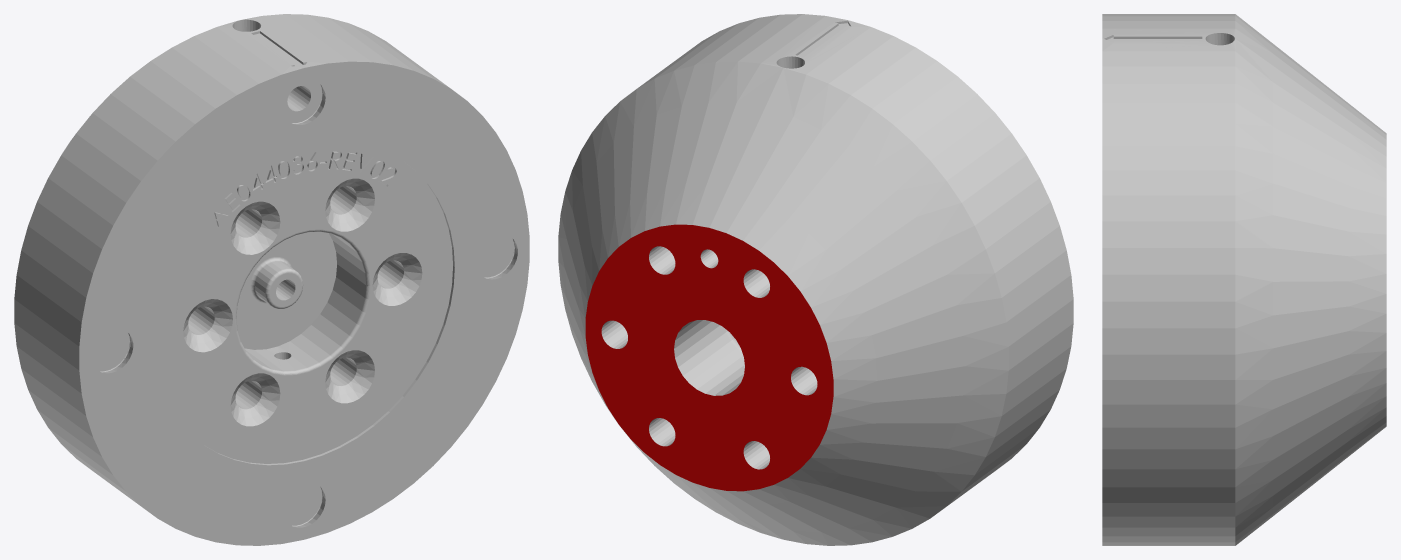
File: AE044036_STEP_53.obj
3 renders of one model, left to right at view 1: azimuth 30°, elevation 25°; view 2: azimuth 150°, elevation 25°; view 3: azimuth 270°, elevation 25°, orthographic. The views are drawn at different scales.
Parts seen in each view (by area): view 1: Object1; view 2: Object1; view 3: Object1.
Boxes of the visible parts, x1,y1,x2,y2 form: Object1: [14, 14, 529, 545]; Object1: [558, 14, 1073, 545]; Object1: [1102, 14, 1386, 545].
Size of the model in its own units: 76.1 by 76.2 by 40.69.
